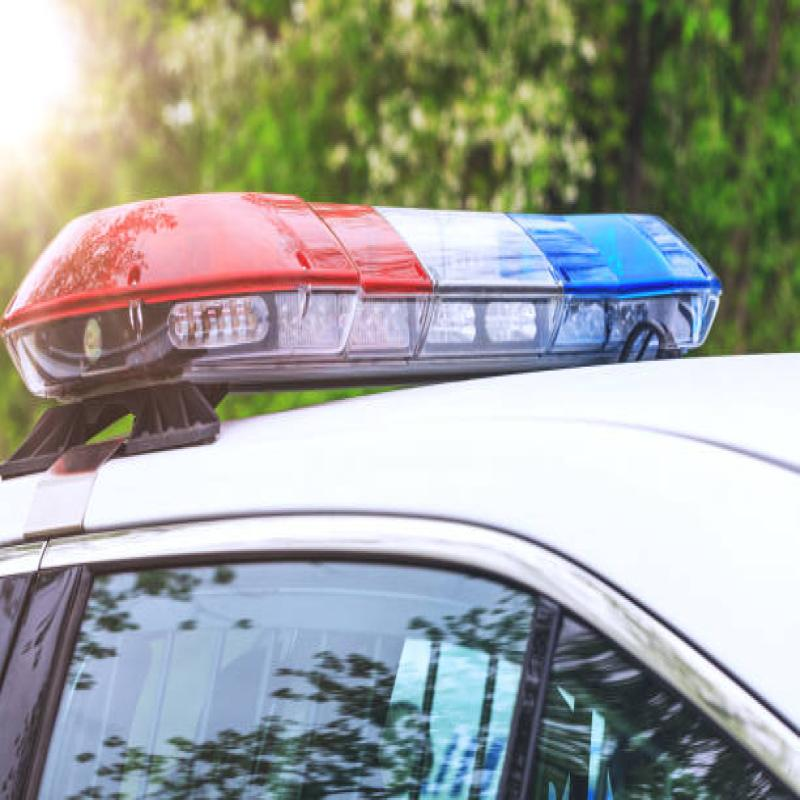AmbulanceSiren: (0, 160, 759, 488)
